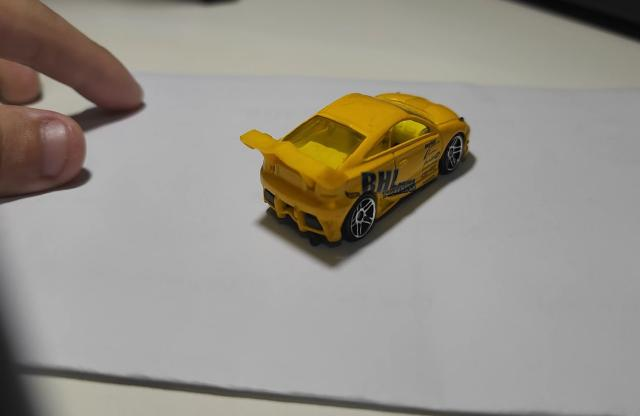07_RHLTURBO: (241, 94, 472, 245)
